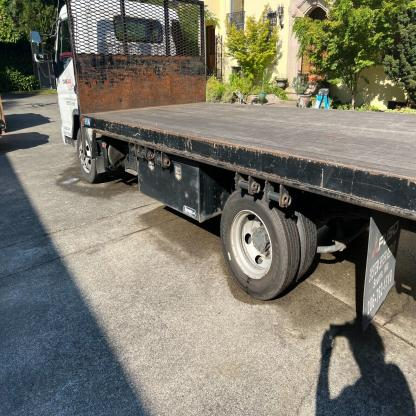truck: (30, 1, 416, 317)
